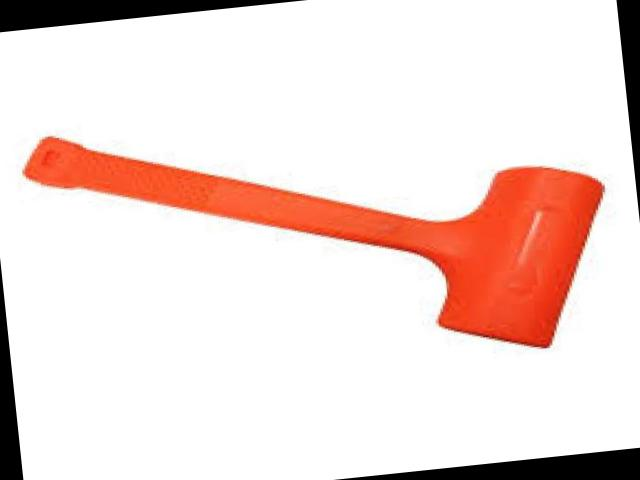hammer: (19, 79, 616, 400)
